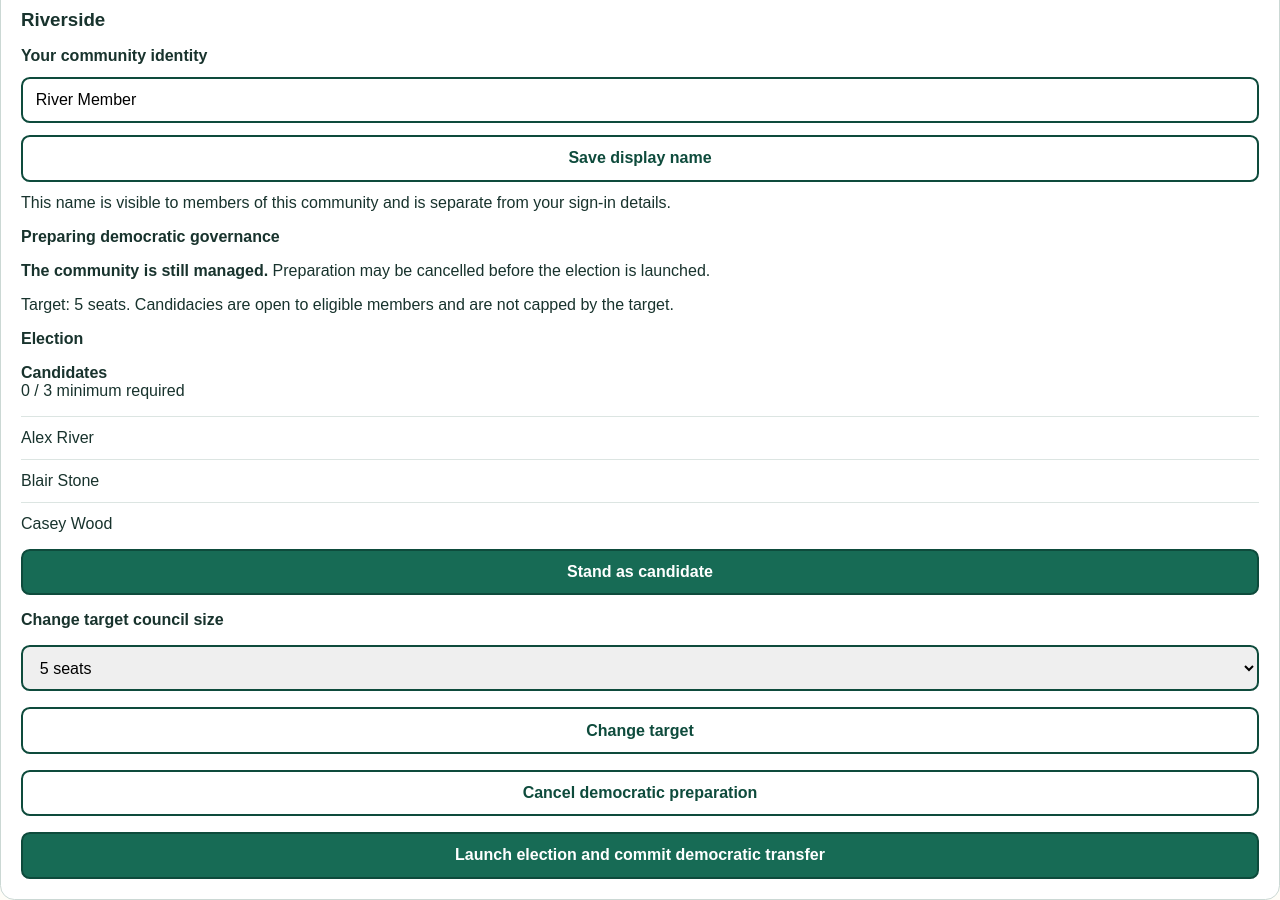
Test: GovernanceSection › opens an explicit irreversible confirmation with three candidates
(page scrolled)
Click the button "Launch election and commit democratic transfer": (640, 856) [21,832,1259,879]
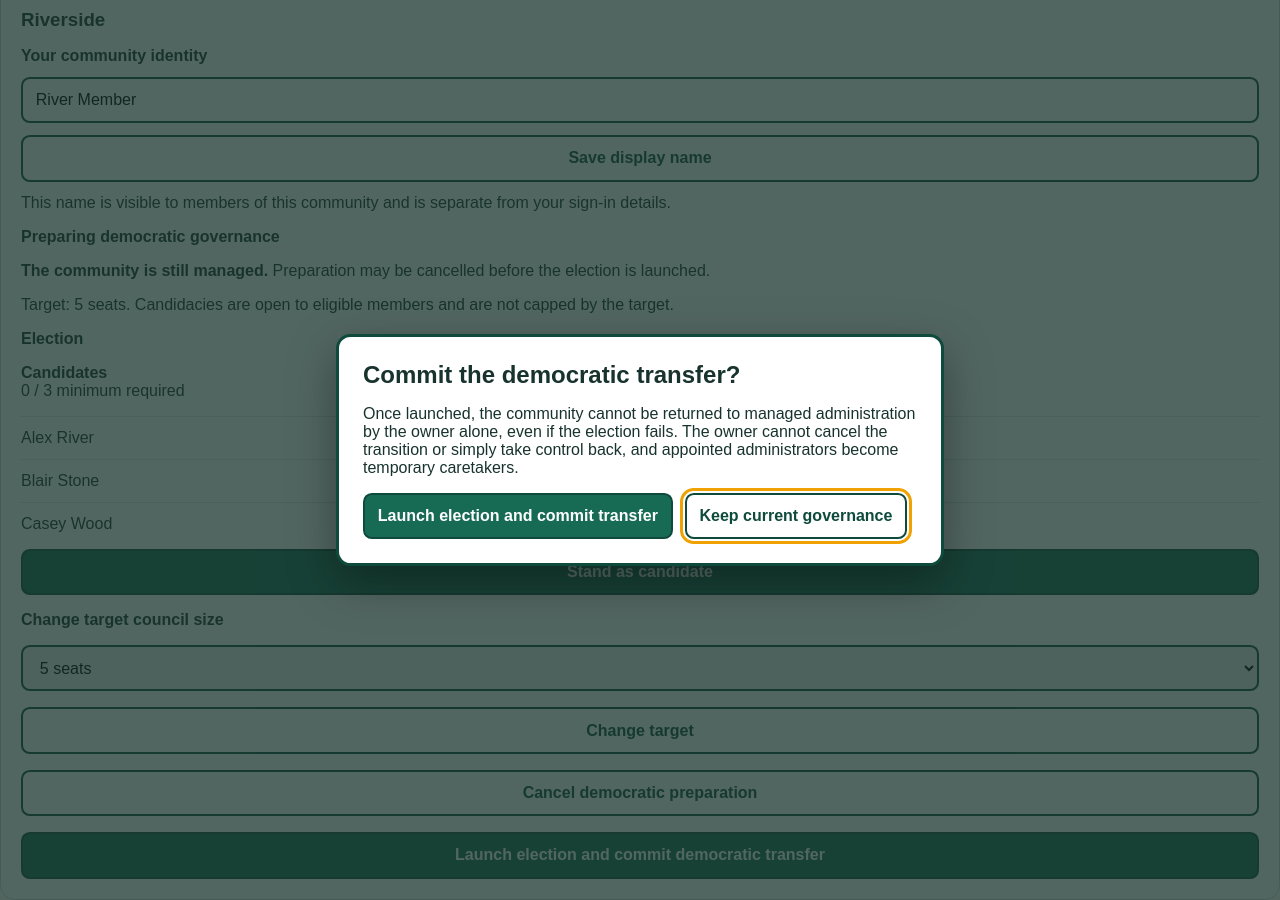
Now the dialog shows "cannot be returned to managed administration", box [363,405,915,476]
